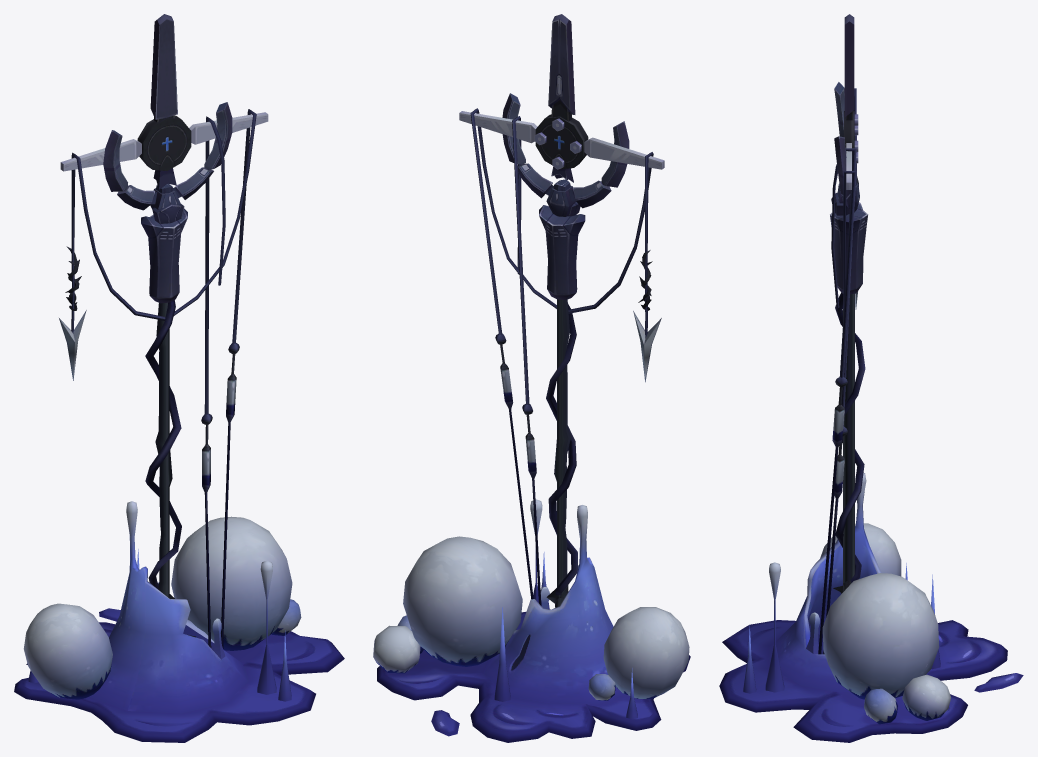
The model's file is furn_do2022_deco_02.gltf.
The picture shows the model from 3 angles, left to right: view 1: azimuth 30°, elevation 25°; view 2: azimuth 150°, elevation 25°; view 3: azimuth 270°, elevation 25°; orthographic projection. The views are drawn at different scales.
Parts seen in each view (by area): view 1: do2022_deco_02; view 2: do2022_deco_02; view 3: do2022_deco_02.
Boxes of the visible parts, bbox=[...] form: do2022_deco_02: bbox=[14, 14, 344, 742]; do2022_deco_02: bbox=[373, 14, 690, 742]; do2022_deco_02: bbox=[719, 14, 1023, 742].
Size of the model in its own units: 0.7456 by 1.61 by 0.6822.
1 material, 1 textured.
